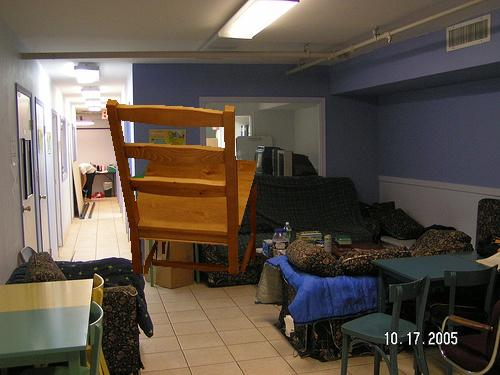tampered: (107, 100, 257, 274)
